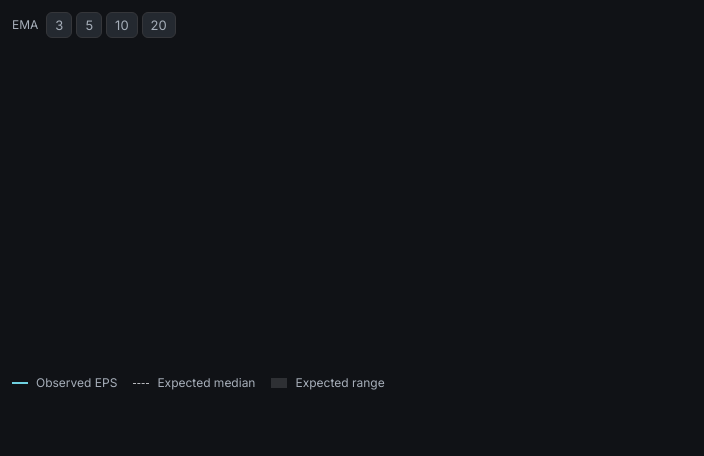
Scenario: EMA legend, note and text › states the span of each average from 5-minute buckets
The image size is (704, 456).
Click the button named "EMA 20" at (159, 25), box x1=142 y1=12 x2=176 y2=38
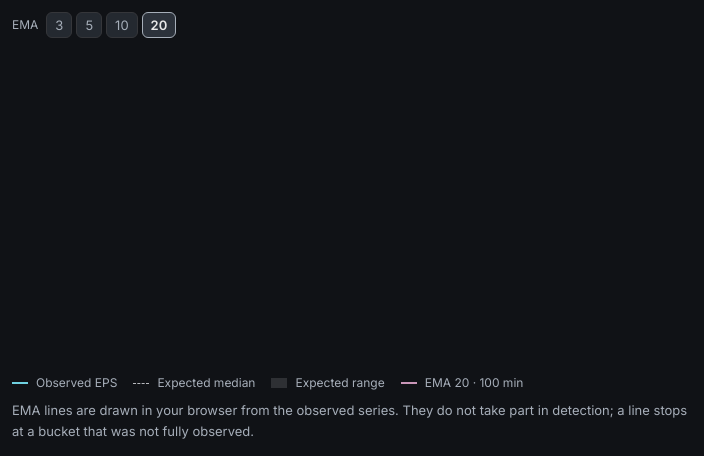
Check: the list item "EMA 20 · 100 min" is shown, box x1=401 y1=374 x2=523 y2=392
